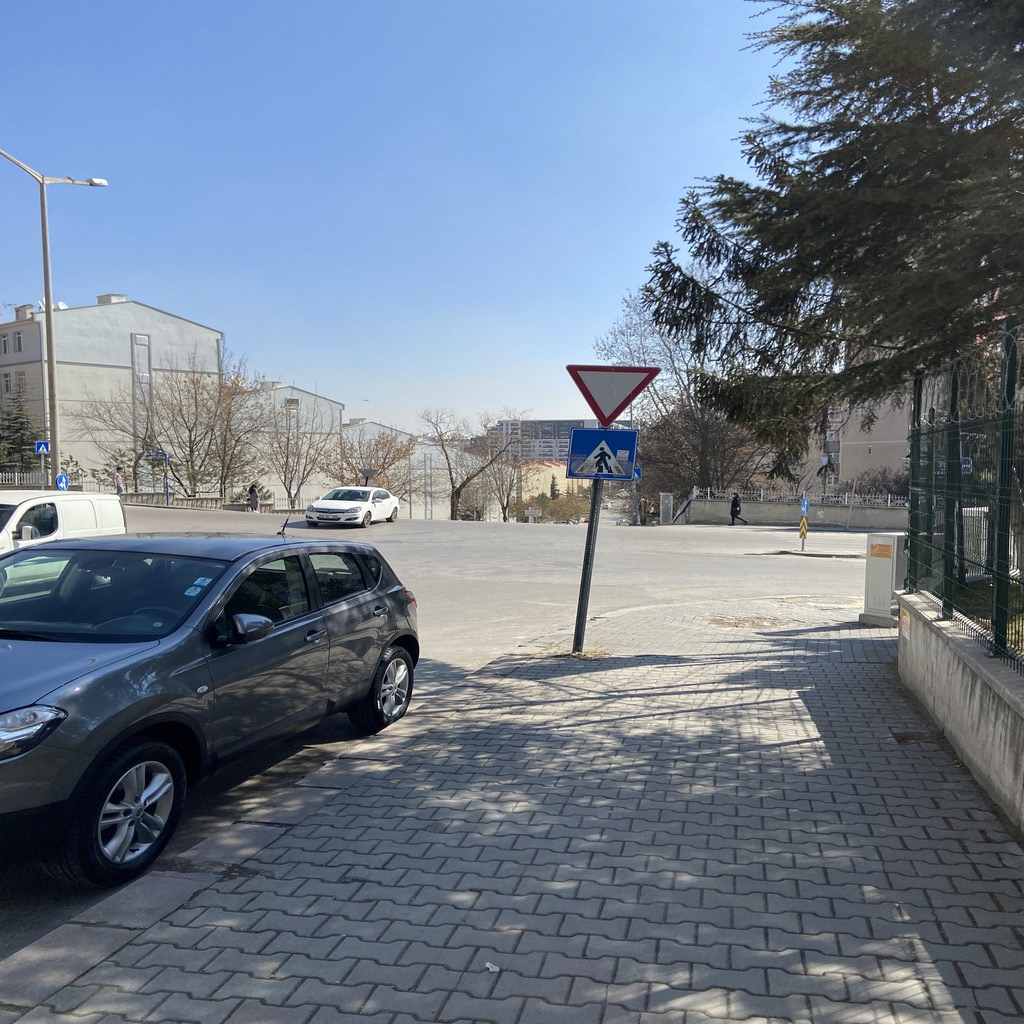Yaya Gecidi: (569, 431, 641, 483)
Yol Ver: (572, 362, 660, 429)
